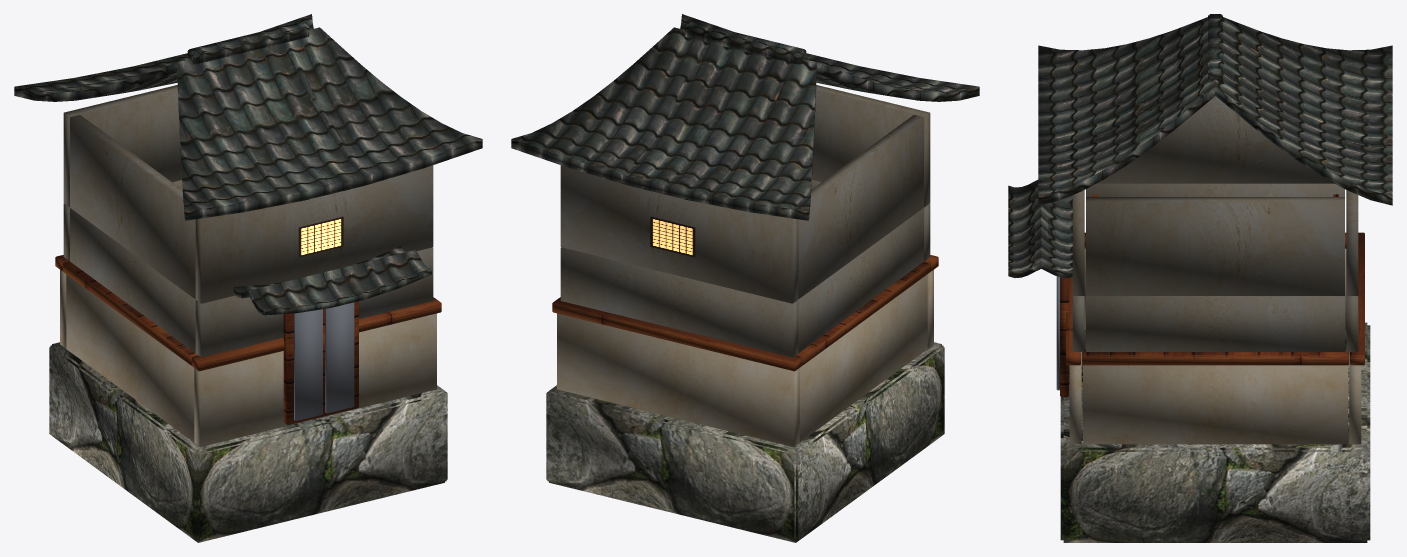
Rendered from kura_warehouse_hero_v1.glb.
The picture shows the model from 3 angles, left to right: view 1: azimuth 30°, elevation 25°; view 2: azimuth 150°, elevation 25°; view 3: azimuth 270°, elevation 25°; orthographic projection. The views are drawn at different scales.
Visible parts, largest first — view 1: peek_roof_kawara, exterior_stone, peek_upper_plaster, exterior_namako, exterior_plaster, exterior_charred, exterior_canopy, exterior_iron, peek_upper_shoji; view 2: peek_roof_kawara, exterior_stone, peek_upper_plaster, exterior_namako, exterior_plaster, exterior_charred, peek_upper_shoji; view 3: peek_roof_kawara, peek_upper_plaster, exterior_stone, exterior_namako, exterior_plaster, exterior_charred, exterior_canopy.
Boxes of the visible parts, x1,y1,x2,y2 form: peek_roof_kawara: [14, 14, 482, 220]; exterior_stone: [49, 342, 447, 542]; peek_upper_plaster: [63, 85, 433, 303]; exterior_namako: [60, 270, 436, 446]; exterior_plaster: [63, 180, 433, 357]; exterior_charred: [55, 255, 441, 424]; exterior_canopy: [233, 246, 431, 315]; exterior_iron: [294, 302, 354, 420]; peek_upper_shoji: [298, 216, 343, 257]; peek_roof_kawara: [511, 14, 979, 220]; exterior_stone: [546, 342, 944, 542]; peek_upper_plaster: [560, 85, 930, 303]; exterior_namako: [557, 270, 933, 446]; exterior_plaster: [560, 180, 930, 357]; exterior_charred: [552, 255, 938, 371]; peek_upper_shoji: [650, 216, 695, 257]; peek_roof_kawara: [1038, 14, 1392, 205]; peek_upper_plaster: [1072, 96, 1358, 295]; exterior_stone: [1060, 322, 1370, 542]; exterior_namako: [1069, 248, 1361, 444]; exterior_plaster: [1072, 183, 1358, 351]; exterior_charred: [1060, 232, 1364, 397]; exterior_canopy: [1008, 180, 1072, 278].
Bounding box in the file's own units: 4.75 × 6.43 × 5.12.
Materials: 14 (10 with a texture image).
